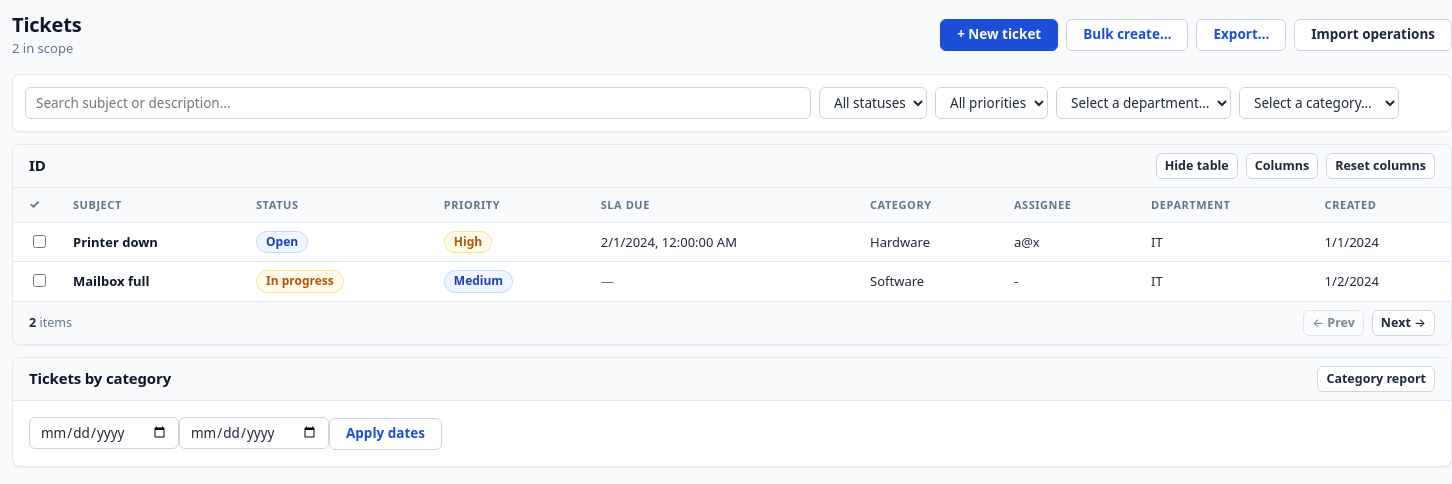
Scenario: Ticket list — pagination and filtering › paginates using next URL
This screenshot has width=1452, height=484.
Expected: the link "Printer down" is shown, [73,233,158,251]
Click the button "Next →".
click(1403, 323)  # box [1372,310,1435,336]
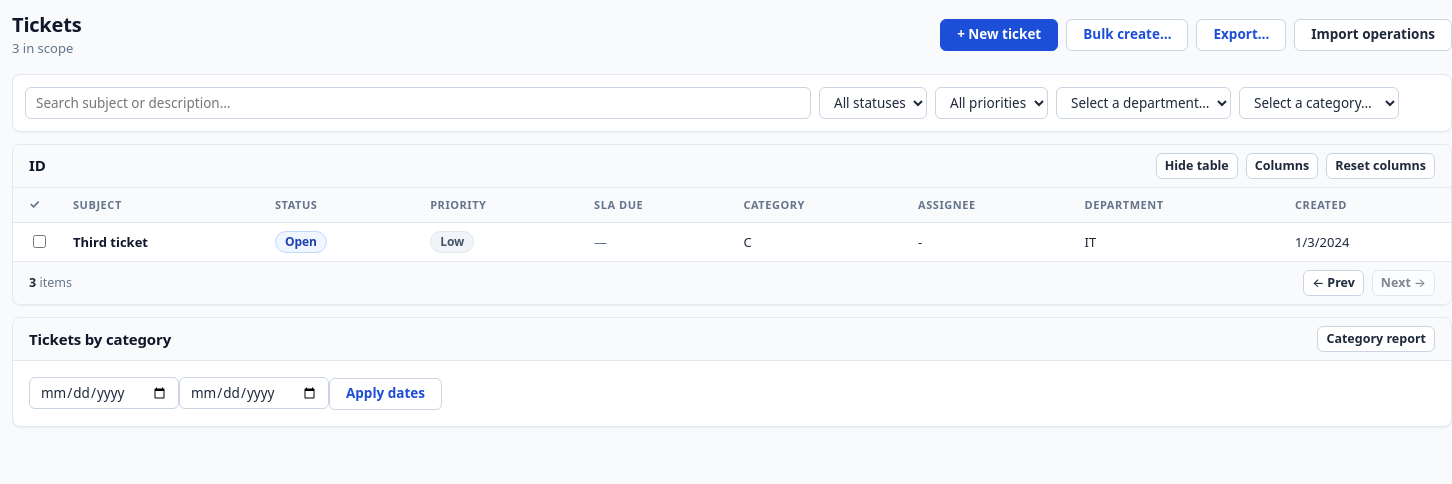
Now the link "Third ticket" is shown, box [73,233,148,251]
